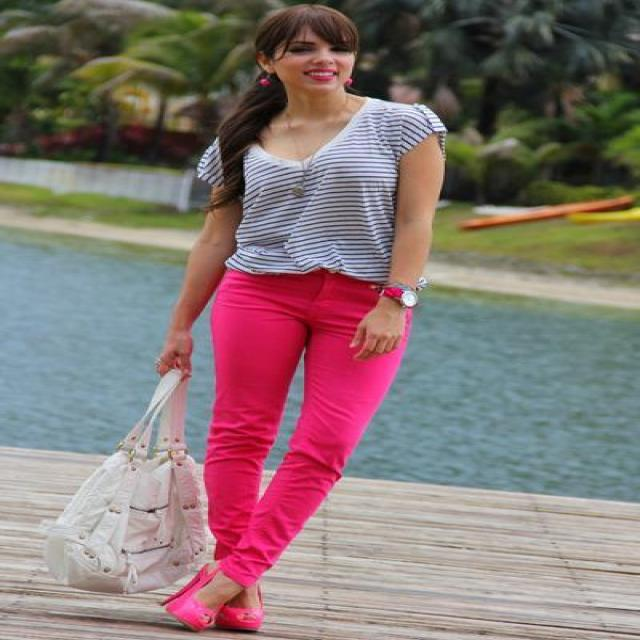bag: (34, 370, 208, 595)
pants: (203, 266, 405, 586)
shirt: (186, 97, 440, 276)
shoe: (165, 587, 267, 639)
